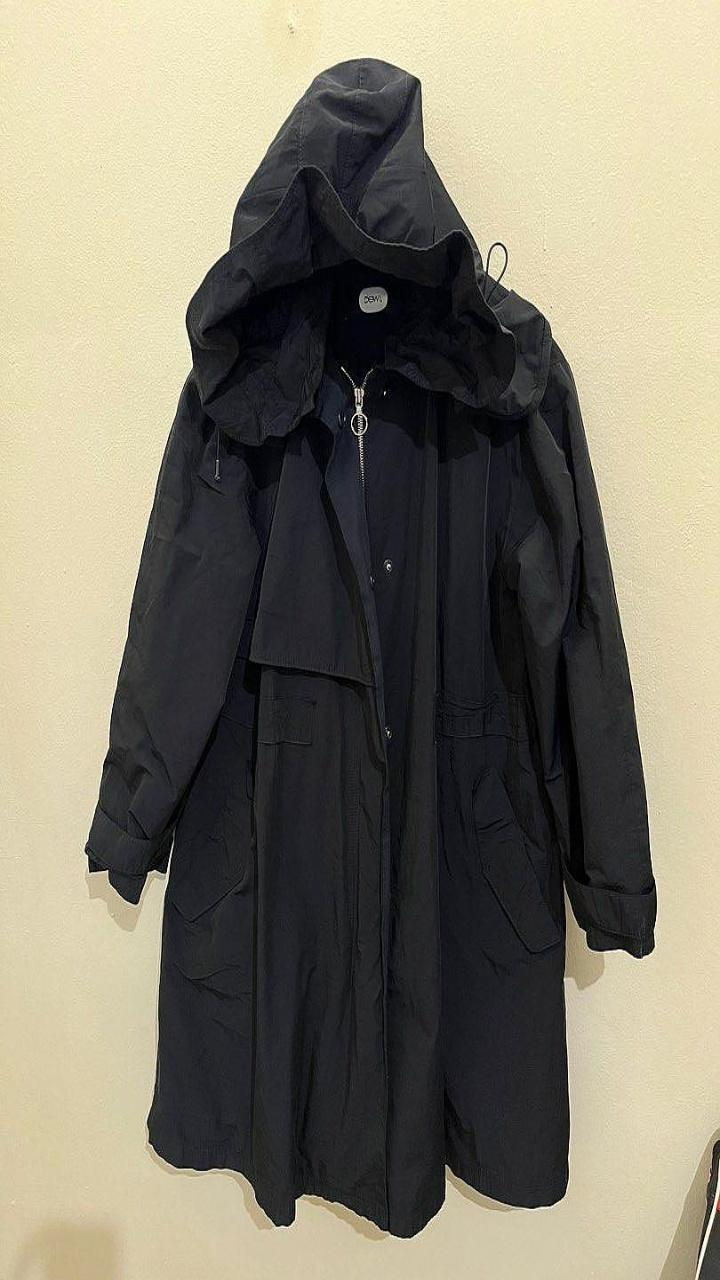Coat: (85, 59, 655, 1236)
